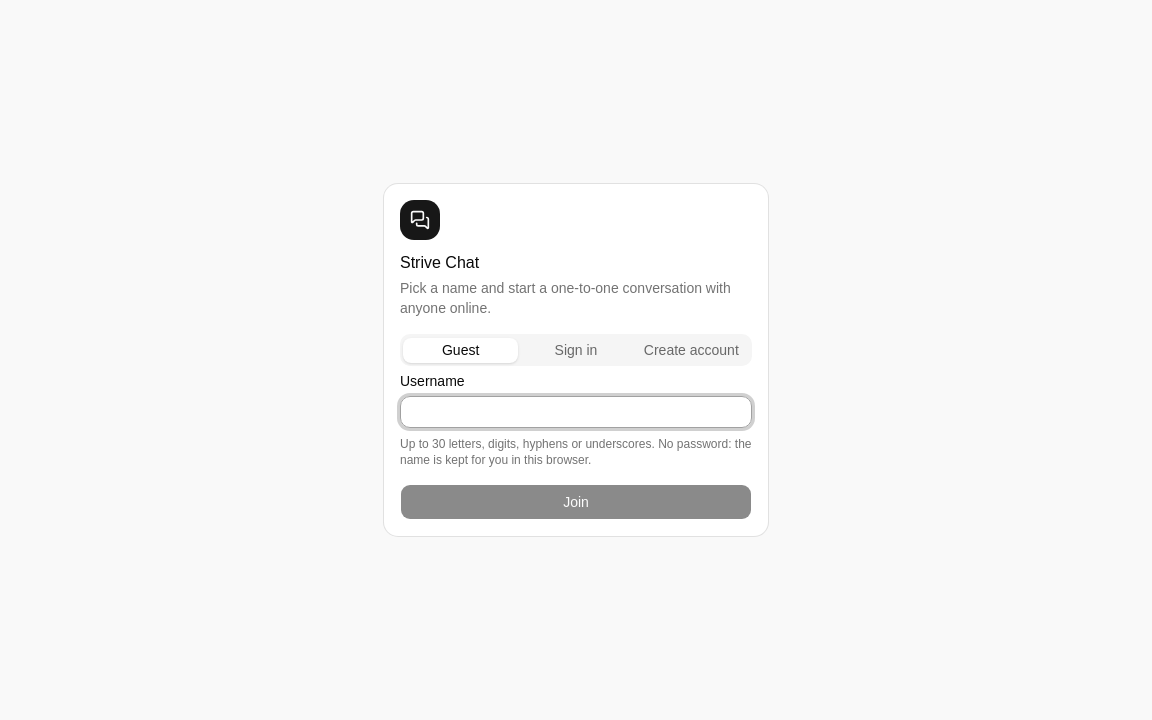
it: the chat list › shows the user’s conversations from login, most recent first, with a preview and unread count
Type "alice" into the field labelled "Username" at (576, 412), box top-left (400, 396), bottom-right (752, 428)
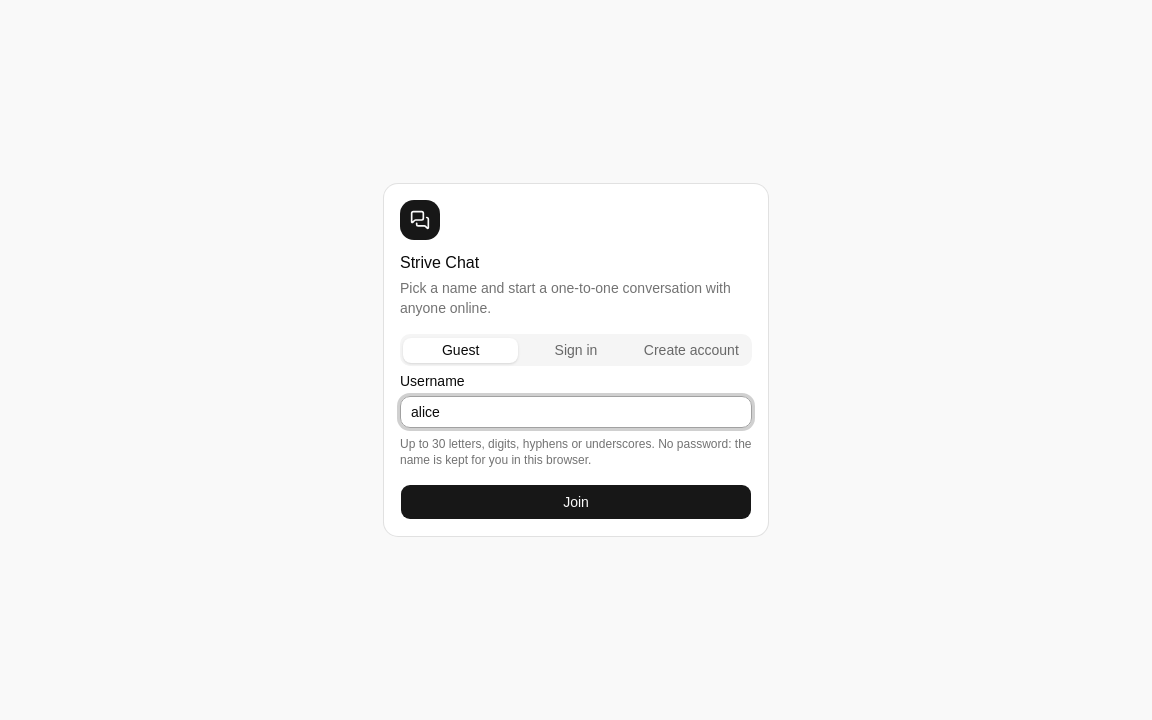
Click the button "Join" at (576, 502), box top-left (400, 484), bottom-right (752, 520)
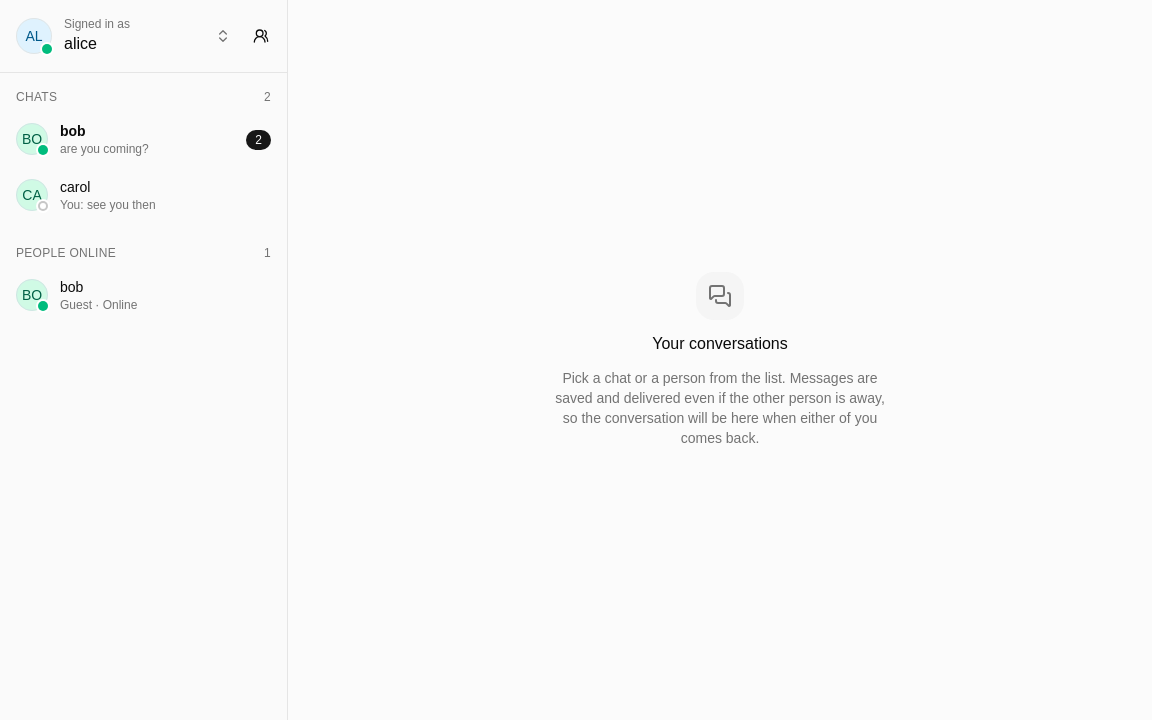
Check: the navigation bar "People online" is shown, box top-left (0, 229), bottom-right (287, 329)
Check: the button "BO bob are you coming? 2" is shown, box top-left (8, 113), bottom-right (279, 165)
Check: the button "CA carol You: see you then" is shown, box top-left (8, 169), bottom-right (279, 221)
